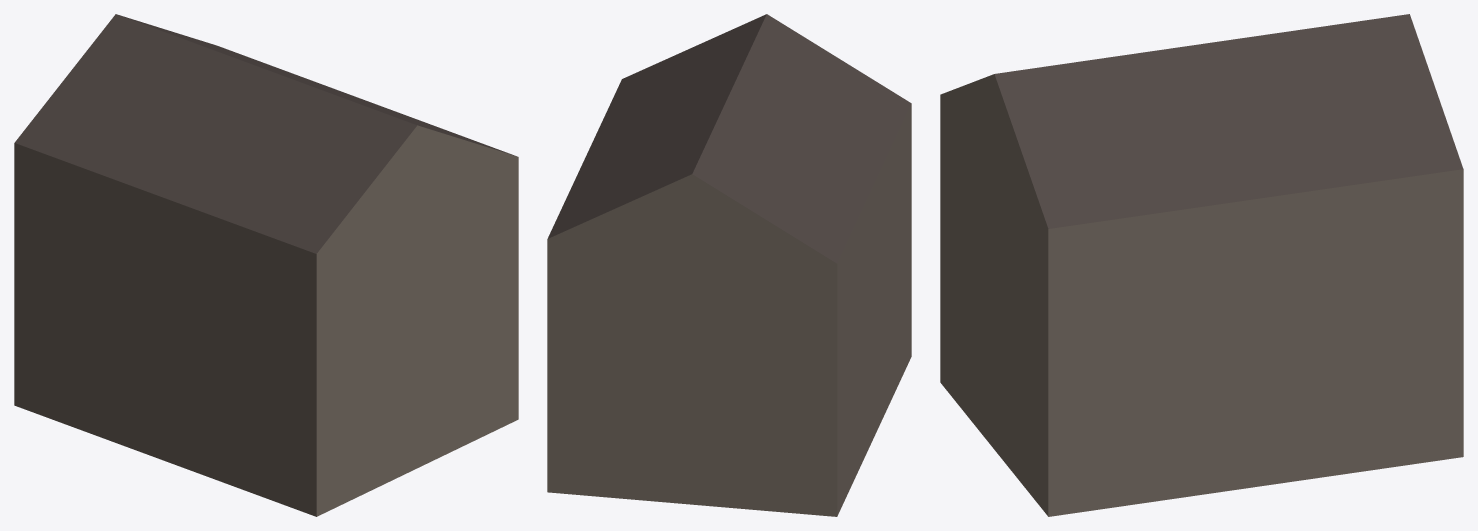
The picture shows the model from 3 angles, left to right: view 1: azimuth 30°, elevation 25°; view 2: azimuth 150°, elevation 25°; view 3: azimuth 270°, elevation 25°; orthographic projection. The views are drawn at different scales.
Parts seen in each view (by area): view 1: HP-w859457501; view 2: HP-w859457501; view 3: HP-w859457501.
Boxes of the visible parts, <box> form: HP-w859457501: <box>14,14,518,516</box>; HP-w859457501: <box>547,14,911,516</box>; HP-w859457501: <box>940,14,1463,516</box>.
Size of the model in its own units: 8.69 by 7.83 by 9.88.
